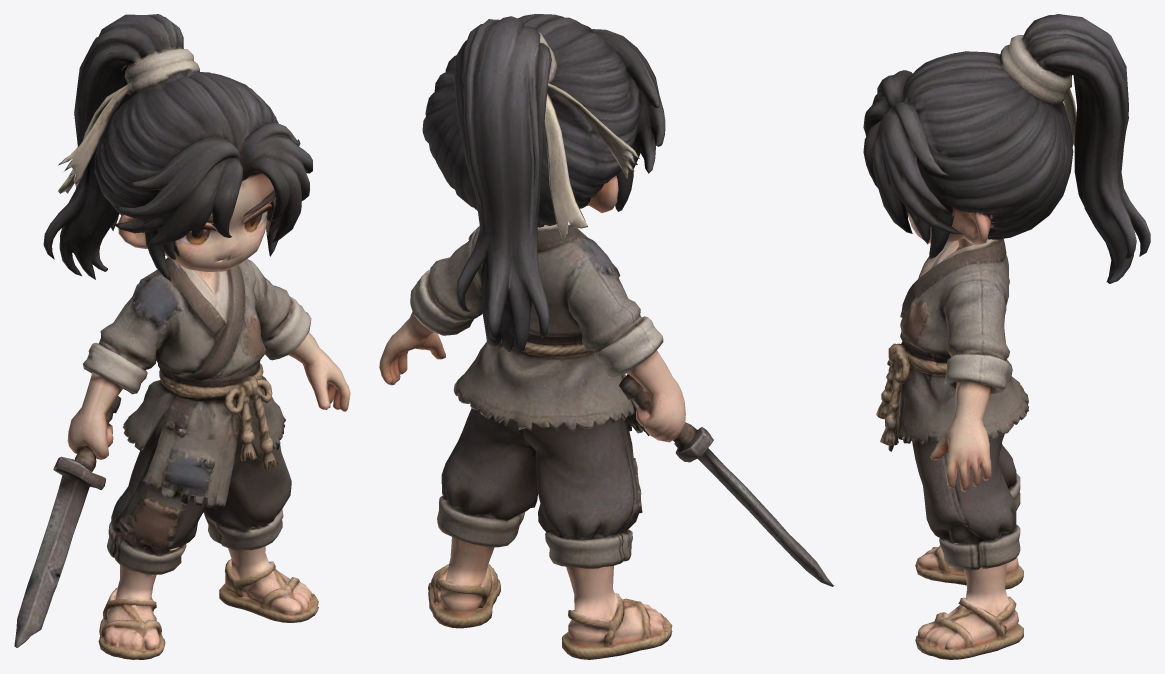
The model's file is hero_t0.glb.
The picture shows the model from 3 angles, left to right: view 1: azimuth 30°, elevation 25°; view 2: azimuth 150°, elevation 25°; view 3: azimuth 270°, elevation 25°; orthographic projection. The views are drawn at different scales.
Visible parts, largest first — view 1: tripo_node_d36cff11-592b-4807-9138-3b981560e678; view 2: tripo_node_d36cff11-592b-4807-9138-3b981560e678; view 3: tripo_node_d36cff11-592b-4807-9138-3b981560e678.
Part boxes in pixels (x1,y1,x2,y2): tripo_node_d36cff11-592b-4807-9138-3b981560e678: [14, 14, 350, 659]; tripo_node_d36cff11-592b-4807-9138-3b981560e678: [379, 14, 834, 659]; tripo_node_d36cff11-592b-4807-9138-3b981560e678: [863, 14, 1150, 659].
Size of the model in its own units: 0.6528 by 0.9782 by 0.4346.
Materials: 1 (1 with a texture image).
